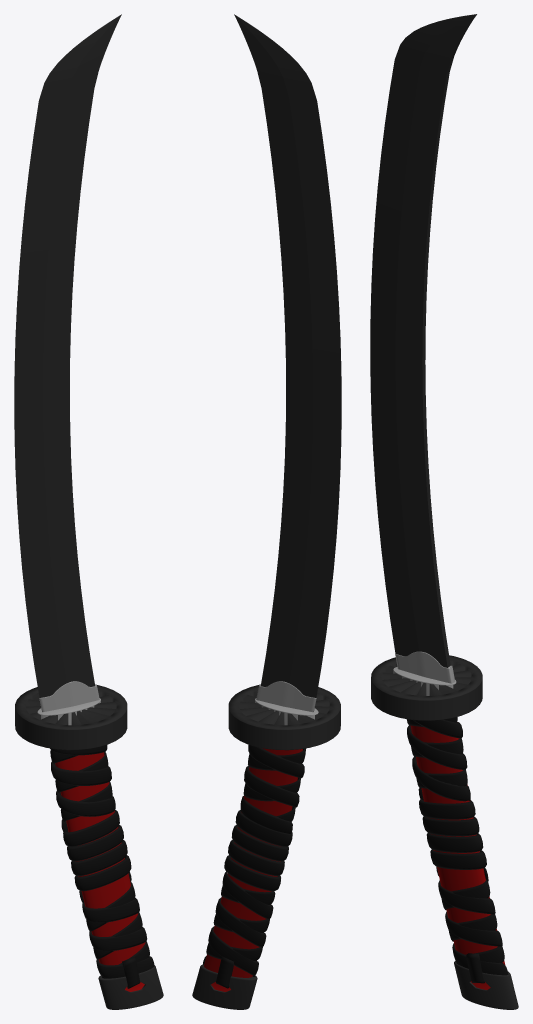
The model's file is katana.fbx.
3 renders of one model, left to right at view 1: azimuth 30°, elevation 25°; view 2: azimuth 150°, elevation 25°; view 3: azimuth 330°, elevation 25°, orthographic.
Visible parts, largest first — view 1: Blade, Adorno, handle, wrappings6, wrappings, Pommel, Ferrule 2, wrappings7, wrappings2, wrappings4, wrappings3, wrappings5 (+3 smaller); view 2: Blade, Adorno, handle, wrappings, wrappings6, Pommel, wrappings7, Ferrule 2, wrappings2, wrappings3, wrappings8, wrappings5 (+3 smaller); view 3: Blade, Adorno, handle, wrappings, wrappings6, Pommel, wrappings7, Ferrule 2, wrappings2, wrappings4, wrappings3, wrappings8 (+3 smaller).
Part boxes in pixels (left/top/right/bottom): Blade: left=14, top=14, right=121, bottom=711; Adorno: left=15, top=684, right=127, bottom=750; handle: left=55, top=752, right=145, bottom=991; wrappings6: left=82, top=872, right=154, bottom=978; wrappings: left=50, top=745, right=115, bottom=832; Pommel: left=98, top=965, right=163, bottom=1009; Ferrule 2: left=39, top=681, right=99, bottom=712; wrappings7: left=79, top=881, right=149, bottom=978; wrappings2: left=50, top=750, right=112, bottom=821; wrappings4: left=63, top=810, right=119, bottom=846; wrappings3: left=67, top=825, right=123, bottom=861; wrappings5: left=71, top=840, right=127, bottom=875; Blade: left=234, top=14, right=341, bottom=711; Adorno: left=228, top=684, right=340, bottom=750; handle: left=204, top=748, right=302, bottom=991; wrappings: left=240, top=745, right=306, bottom=833; wrappings6: left=203, top=872, right=273, bottom=975; Pommel: left=192, top=964, right=257, bottom=1009; wrappings7: left=206, top=885, right=275, bottom=976; Ferrule 2: left=256, top=681, right=316, bottom=712; wrappings2: left=243, top=748, right=305, bottom=821; wrappings3: left=231, top=825, right=288, bottom=861; wrappings8: left=224, top=855, right=280, bottom=891; wrappings5: left=228, top=840, right=284, bottom=875; Blade: left=370, top=14, right=476, bottom=667; Adorno: left=371, top=655, right=482, bottom=720; handle: left=410, top=725, right=505, bottom=989; wrappings: left=407, top=719, right=470, bottom=801; wrappings6: left=438, top=868, right=508, bottom=975; Pommel: left=454, top=961, right=518, bottom=1009; wrappings7: left=436, top=866, right=504, bottom=964; Ferrule 2: left=395, top=651, right=454, bottom=683; wrappings2: left=406, top=717, right=467, bottom=788; wrappings4: left=419, top=799, right=475, bottom=819; wrappings3: left=422, top=816, right=479, bottom=836; wrappings8: left=430, top=849, right=486, bottom=869.
Size of the model in its own units: 550 by 3502 by 361.
